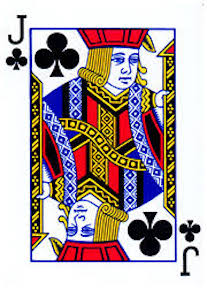JackOfClubs: (1, 1, 207, 282)
